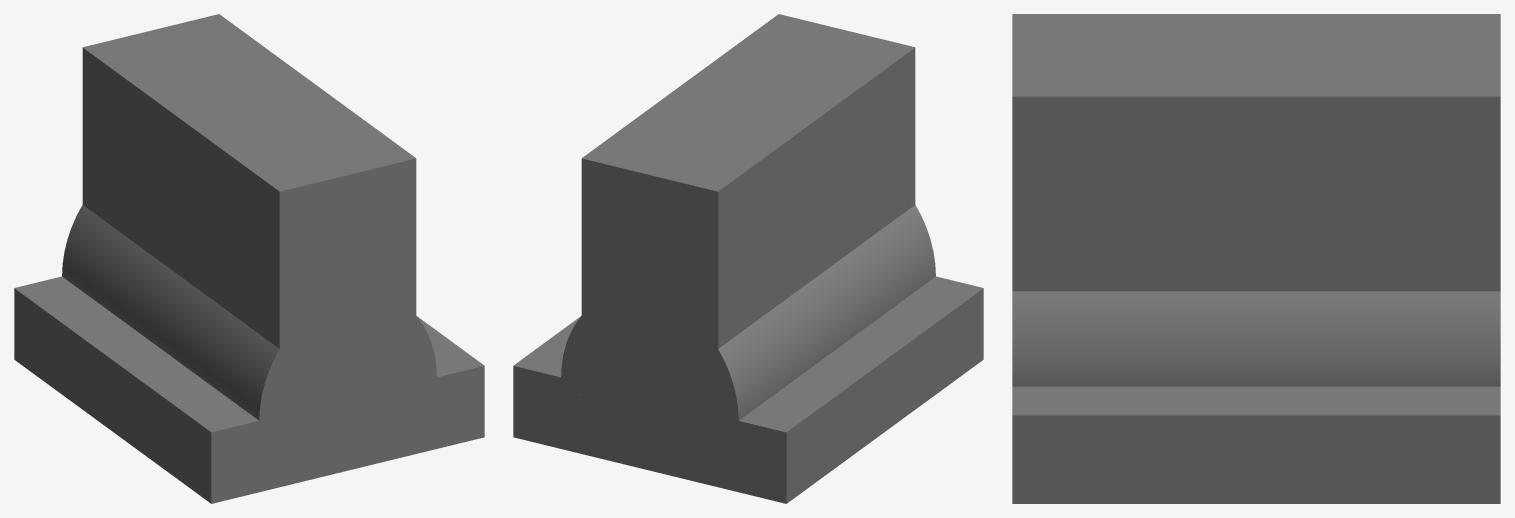
The picture shows the model from 3 angles, left to right: view 1: azimuth 30°, elevation 25°; view 2: azimuth 150°, elevation 25°; view 3: azimuth 270°, elevation 25°; orthographic projection. The views are drawn at different scales.
Parts seen in each view (by area): view 1: mesh_id4, mesh_id5; view 2: mesh_id4, mesh_id5; view 3: mesh_id4, mesh_id5.
Part boxes in pixels (bbox=[...]): mesh_id4: bbox=[14, 14, 484, 503]; mesh_id5: bbox=[62, 205, 436, 428]; mesh_id4: bbox=[513, 14, 983, 503]; mesh_id5: bbox=[561, 205, 935, 428]; mesh_id4: bbox=[1012, 14, 1500, 503]; mesh_id5: bbox=[1012, 291, 1500, 386].
Size of the model in its own units: 0.4955 by 0.512 by 0.6194.
Materials: 2 (2 with a texture image).
